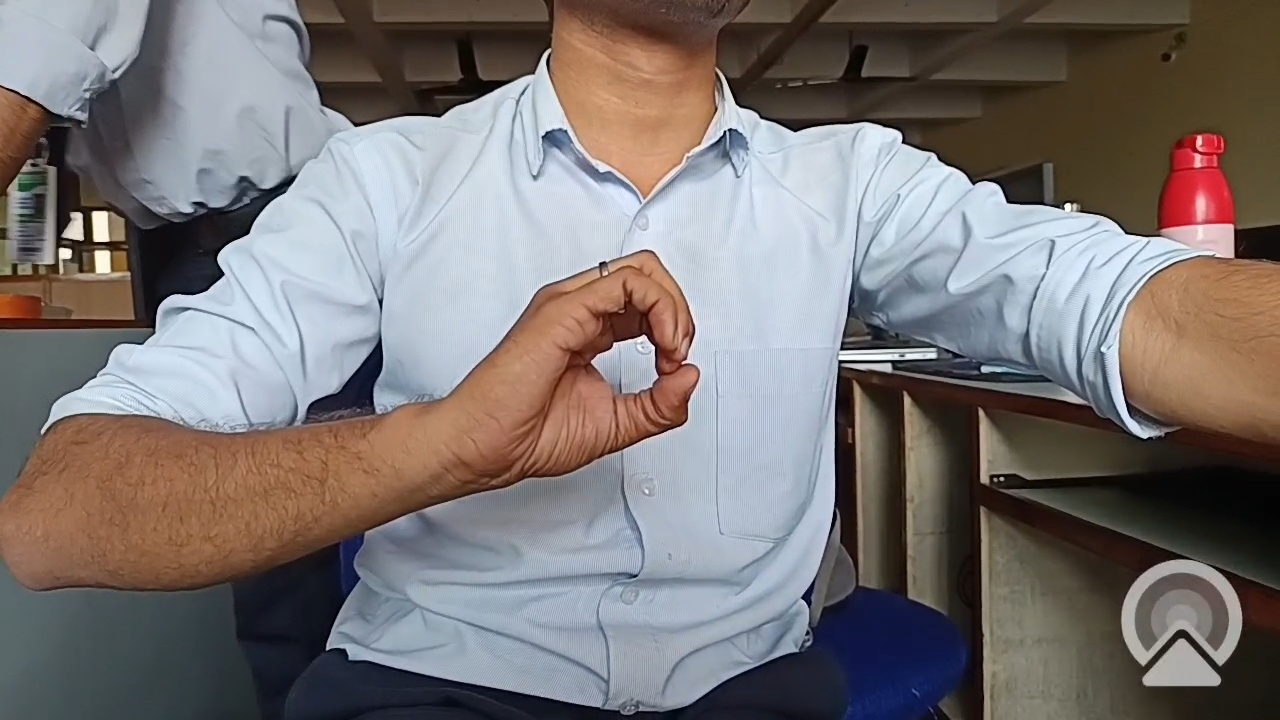O: (415, 230, 762, 536)
